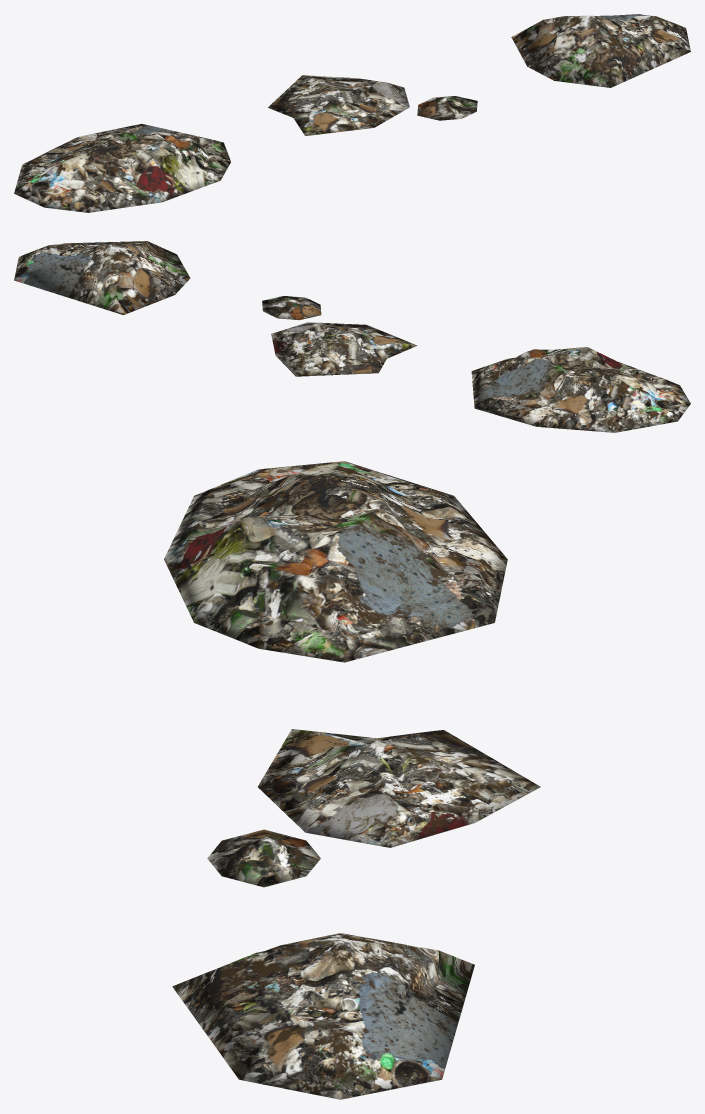
The model's file is pile_of_trash_and_garbage_-_3_piece_set.glb.
3 renders of one model, top to bottom at view 1: azimuth 30°, elevation 25°; view 2: azimuth 150°, elevation 25°; view 3: azimuth 270°, elevation 25°, orthographic. The views are drawn at different scales.
Visible parts, largest first — view 1: Trahs_Pile_01_GEO, Trash_Pile_03_GEO, Trash_Pile_02_GEO; view 2: Trahs_Pile_01_GEO, Trash_Pile_03_GEO, Trash_Pile_02_GEO; view 3: Trahs_Pile_01_GEO, Trash_Pile_03_GEO, Trash_Pile_02_GEO.
Boxes of the visible parts, x1=… form: Trahs_Pile_01_GEO: x1=14, y1=123, x2=230, y2=212; Trash_Pile_03_GEO: x1=511, y1=14, x2=690, y2=87; Trash_Pile_02_GEO: x1=268, y1=75, x2=477, y2=135; Trahs_Pile_01_GEO: x1=471, y1=347, x2=690, y2=432; Trash_Pile_03_GEO: x1=14, y1=241, x2=190, y2=314; Trash_Pile_02_GEO: x1=262, y1=296, x2=417, y2=376; Trahs_Pile_01_GEO: x1=164, y1=461, x2=507, y2=662; Trash_Pile_03_GEO: x1=172, y1=933, x2=474, y2=1099; Trash_Pile_02_GEO: x1=207, y1=729, x2=540, y2=887.
Bounding box in the file's own units: 6.28 × 0.3435 × 1.55.
Materials: 1 (1 with a texture image).
